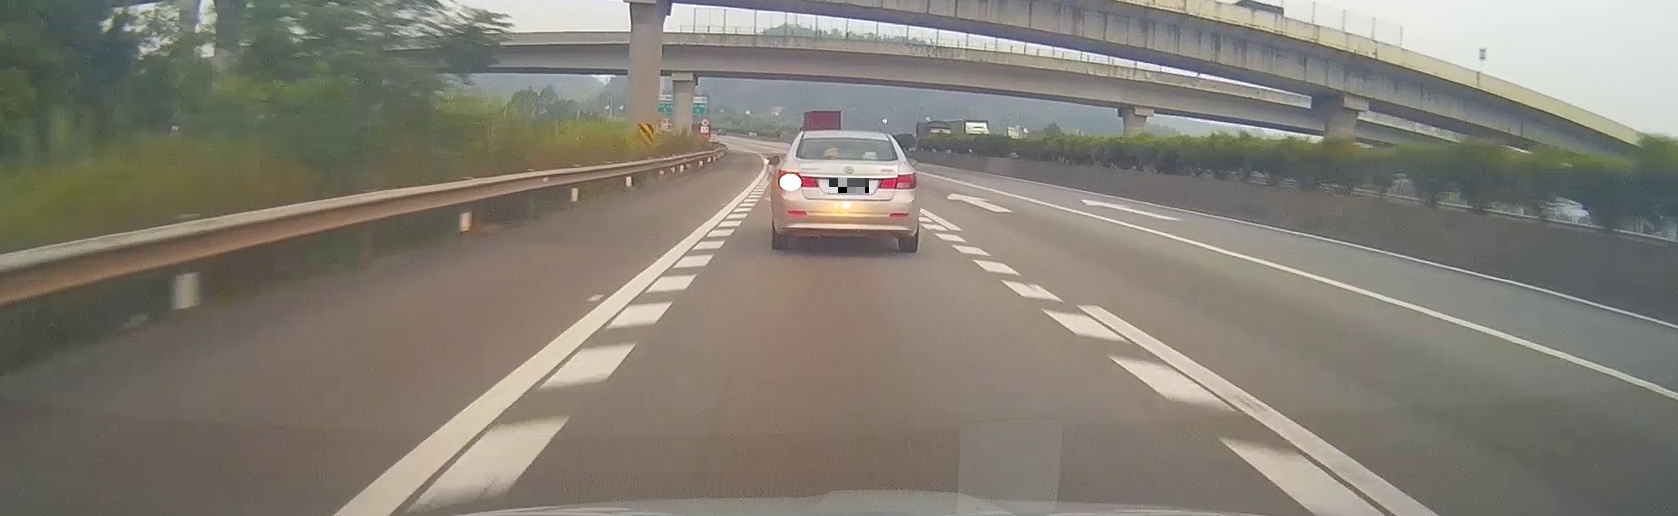L_light: (777, 169, 820, 191)
R_light: (879, 172, 916, 189)
T_light: (839, 153, 859, 160)
day-left: (772, 130, 919, 252)
plate_1: (829, 178, 869, 193)
